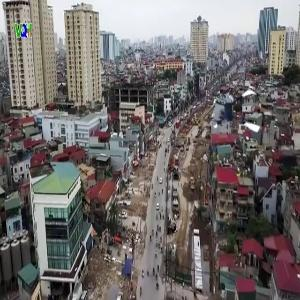drone: (212, 87, 267, 142)
